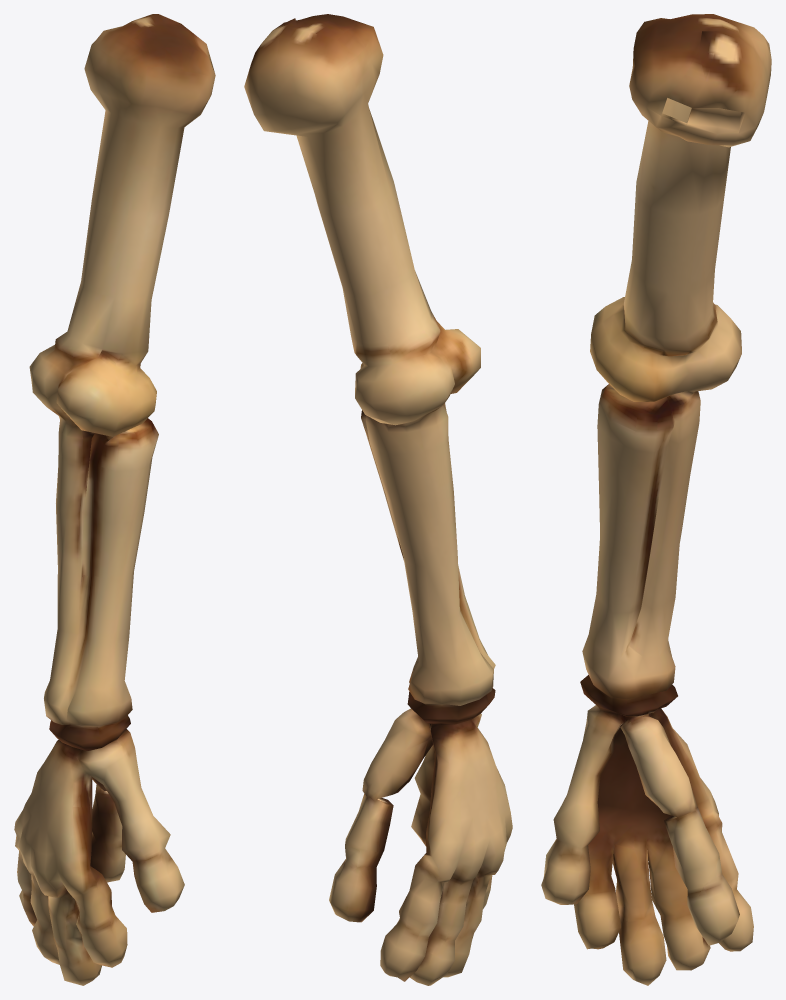
Rendered from brazoDer.obj.
The picture shows the model from 3 angles, left to right: view 1: azimuth 30°, elevation 25°; view 2: azimuth 150°, elevation 25°; view 3: azimuth 270°, elevation 25°; orthographic projection. The views are drawn at different scales.
Parts seen in each view (by area): view 1: brazoIzq; view 2: brazoIzq; view 3: brazoIzq.
Boxes of the visible parts, x1,y1,x2,y2 form: brazoIzq: (14, 14, 215, 985); brazoIzq: (244, 14, 512, 985); brazoIzq: (541, 14, 771, 985).
Bounding box in the file's own units: 0.094 × 0.4078 × 0.0841.
1 material, 1 textured.
